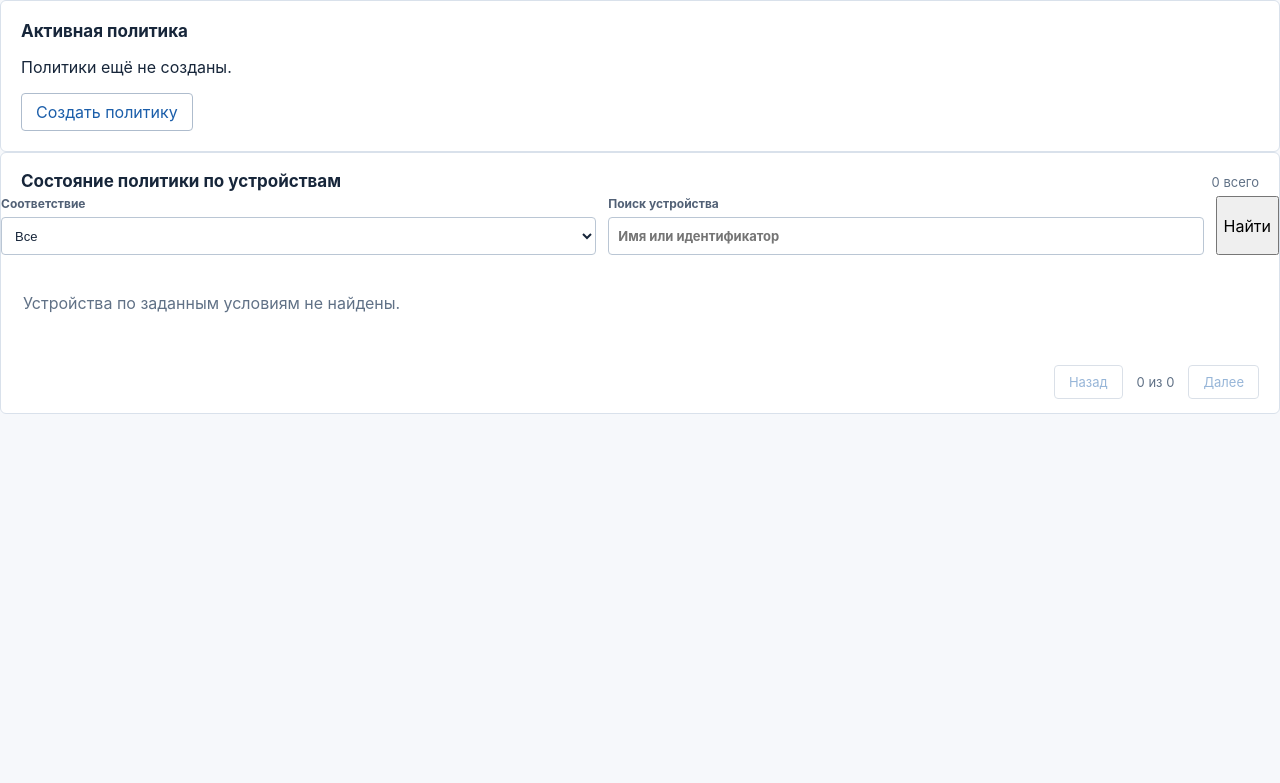
it: creates the first policy from safe typed defaults
Expected: the text "Политики ещё не созданы." is shown, [21,57,232,77]
Click the button "Создать политику".
click(107, 112)  # box [21,93,193,131]
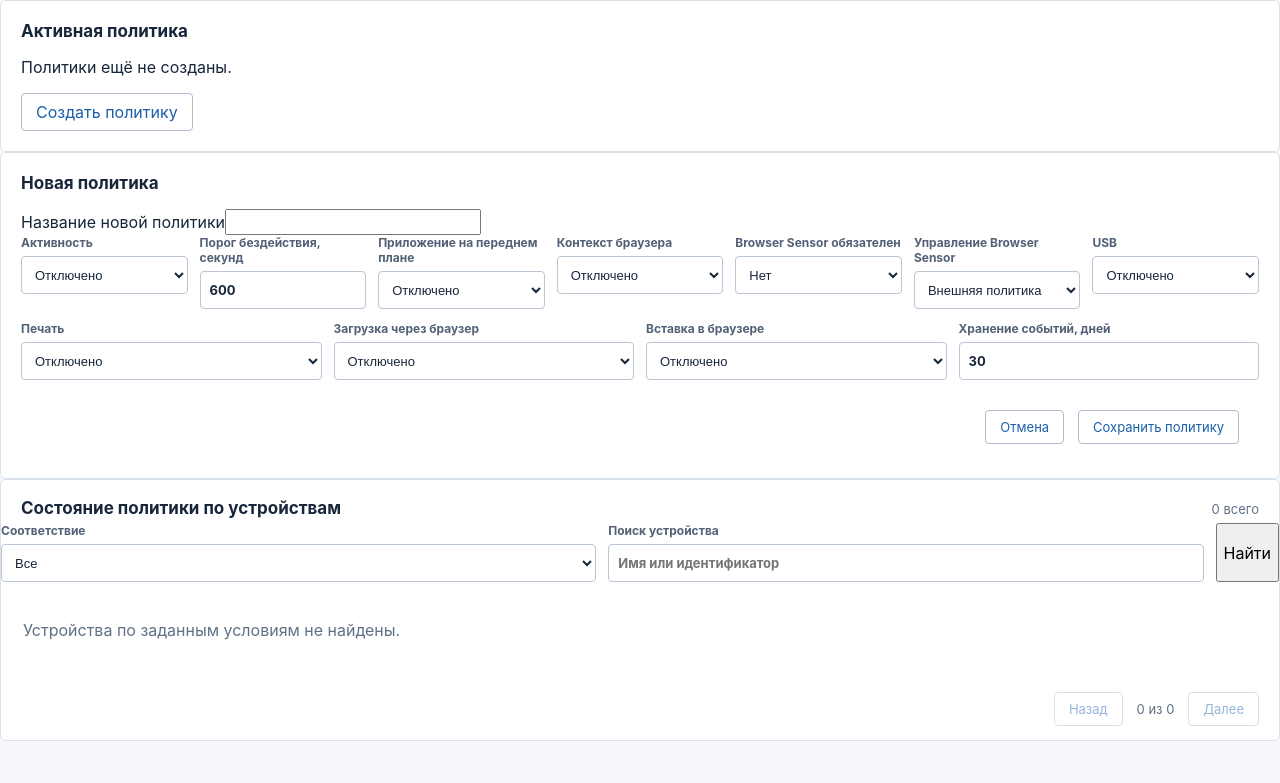
Type "Пилотная" into the field labelled "Название новой политики".
click(353, 222); type("Пилотная")  # box [225,209,481,235]
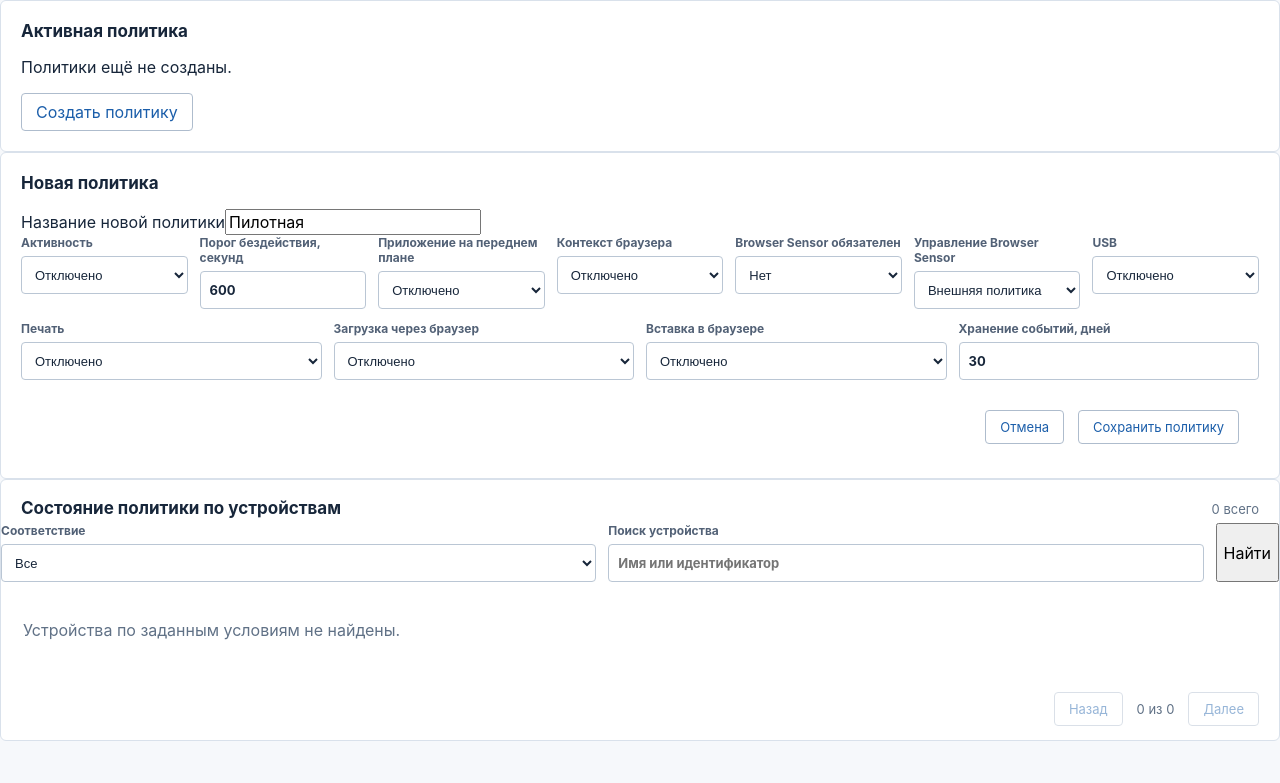
Click the button "Сохранить политику".
click(1159, 427)  # box [1078,410,1239,444]
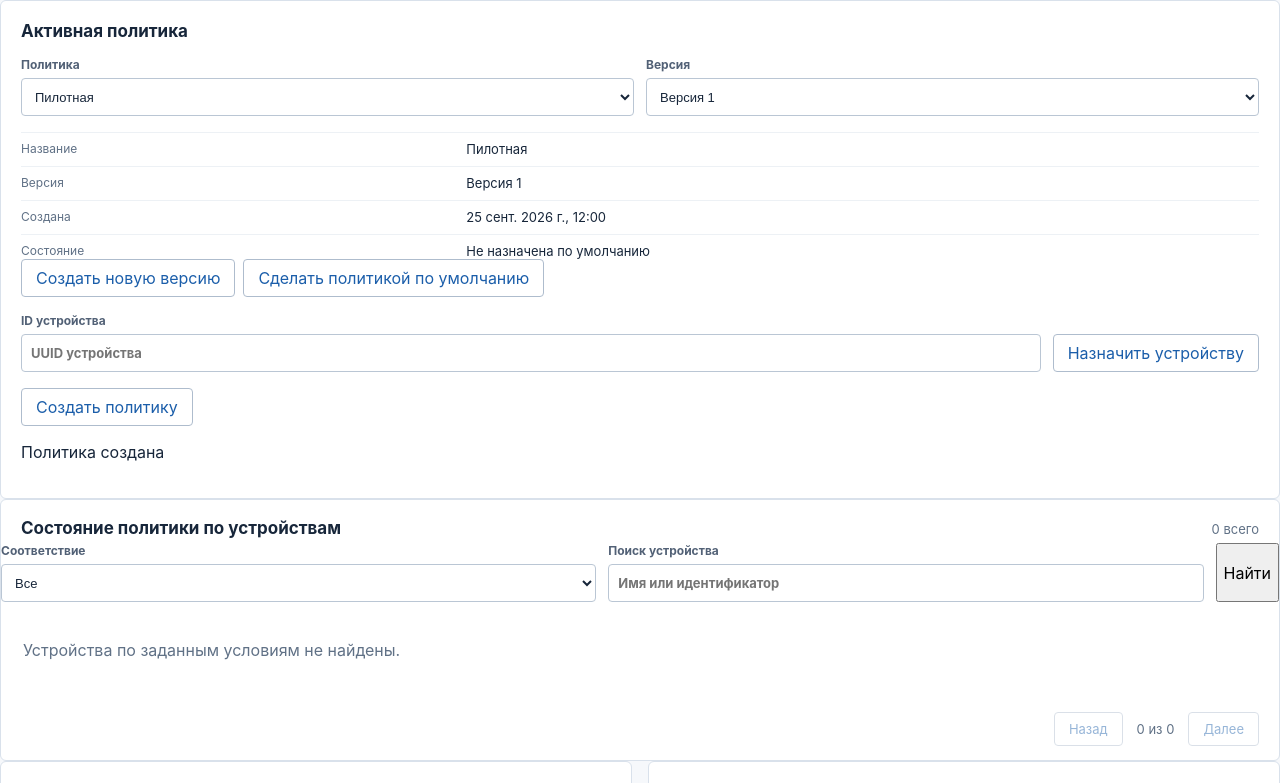
Expected: the text "Политика создана" is shown, [21,442,164,462]
Expected: the text "Пилотная" is shown 2 times
